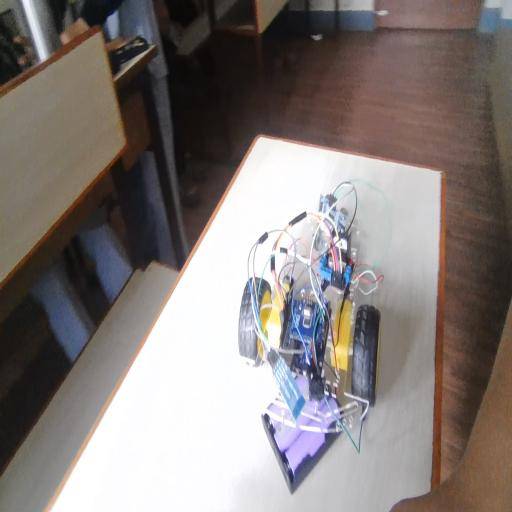car: (247, 147, 389, 459)
